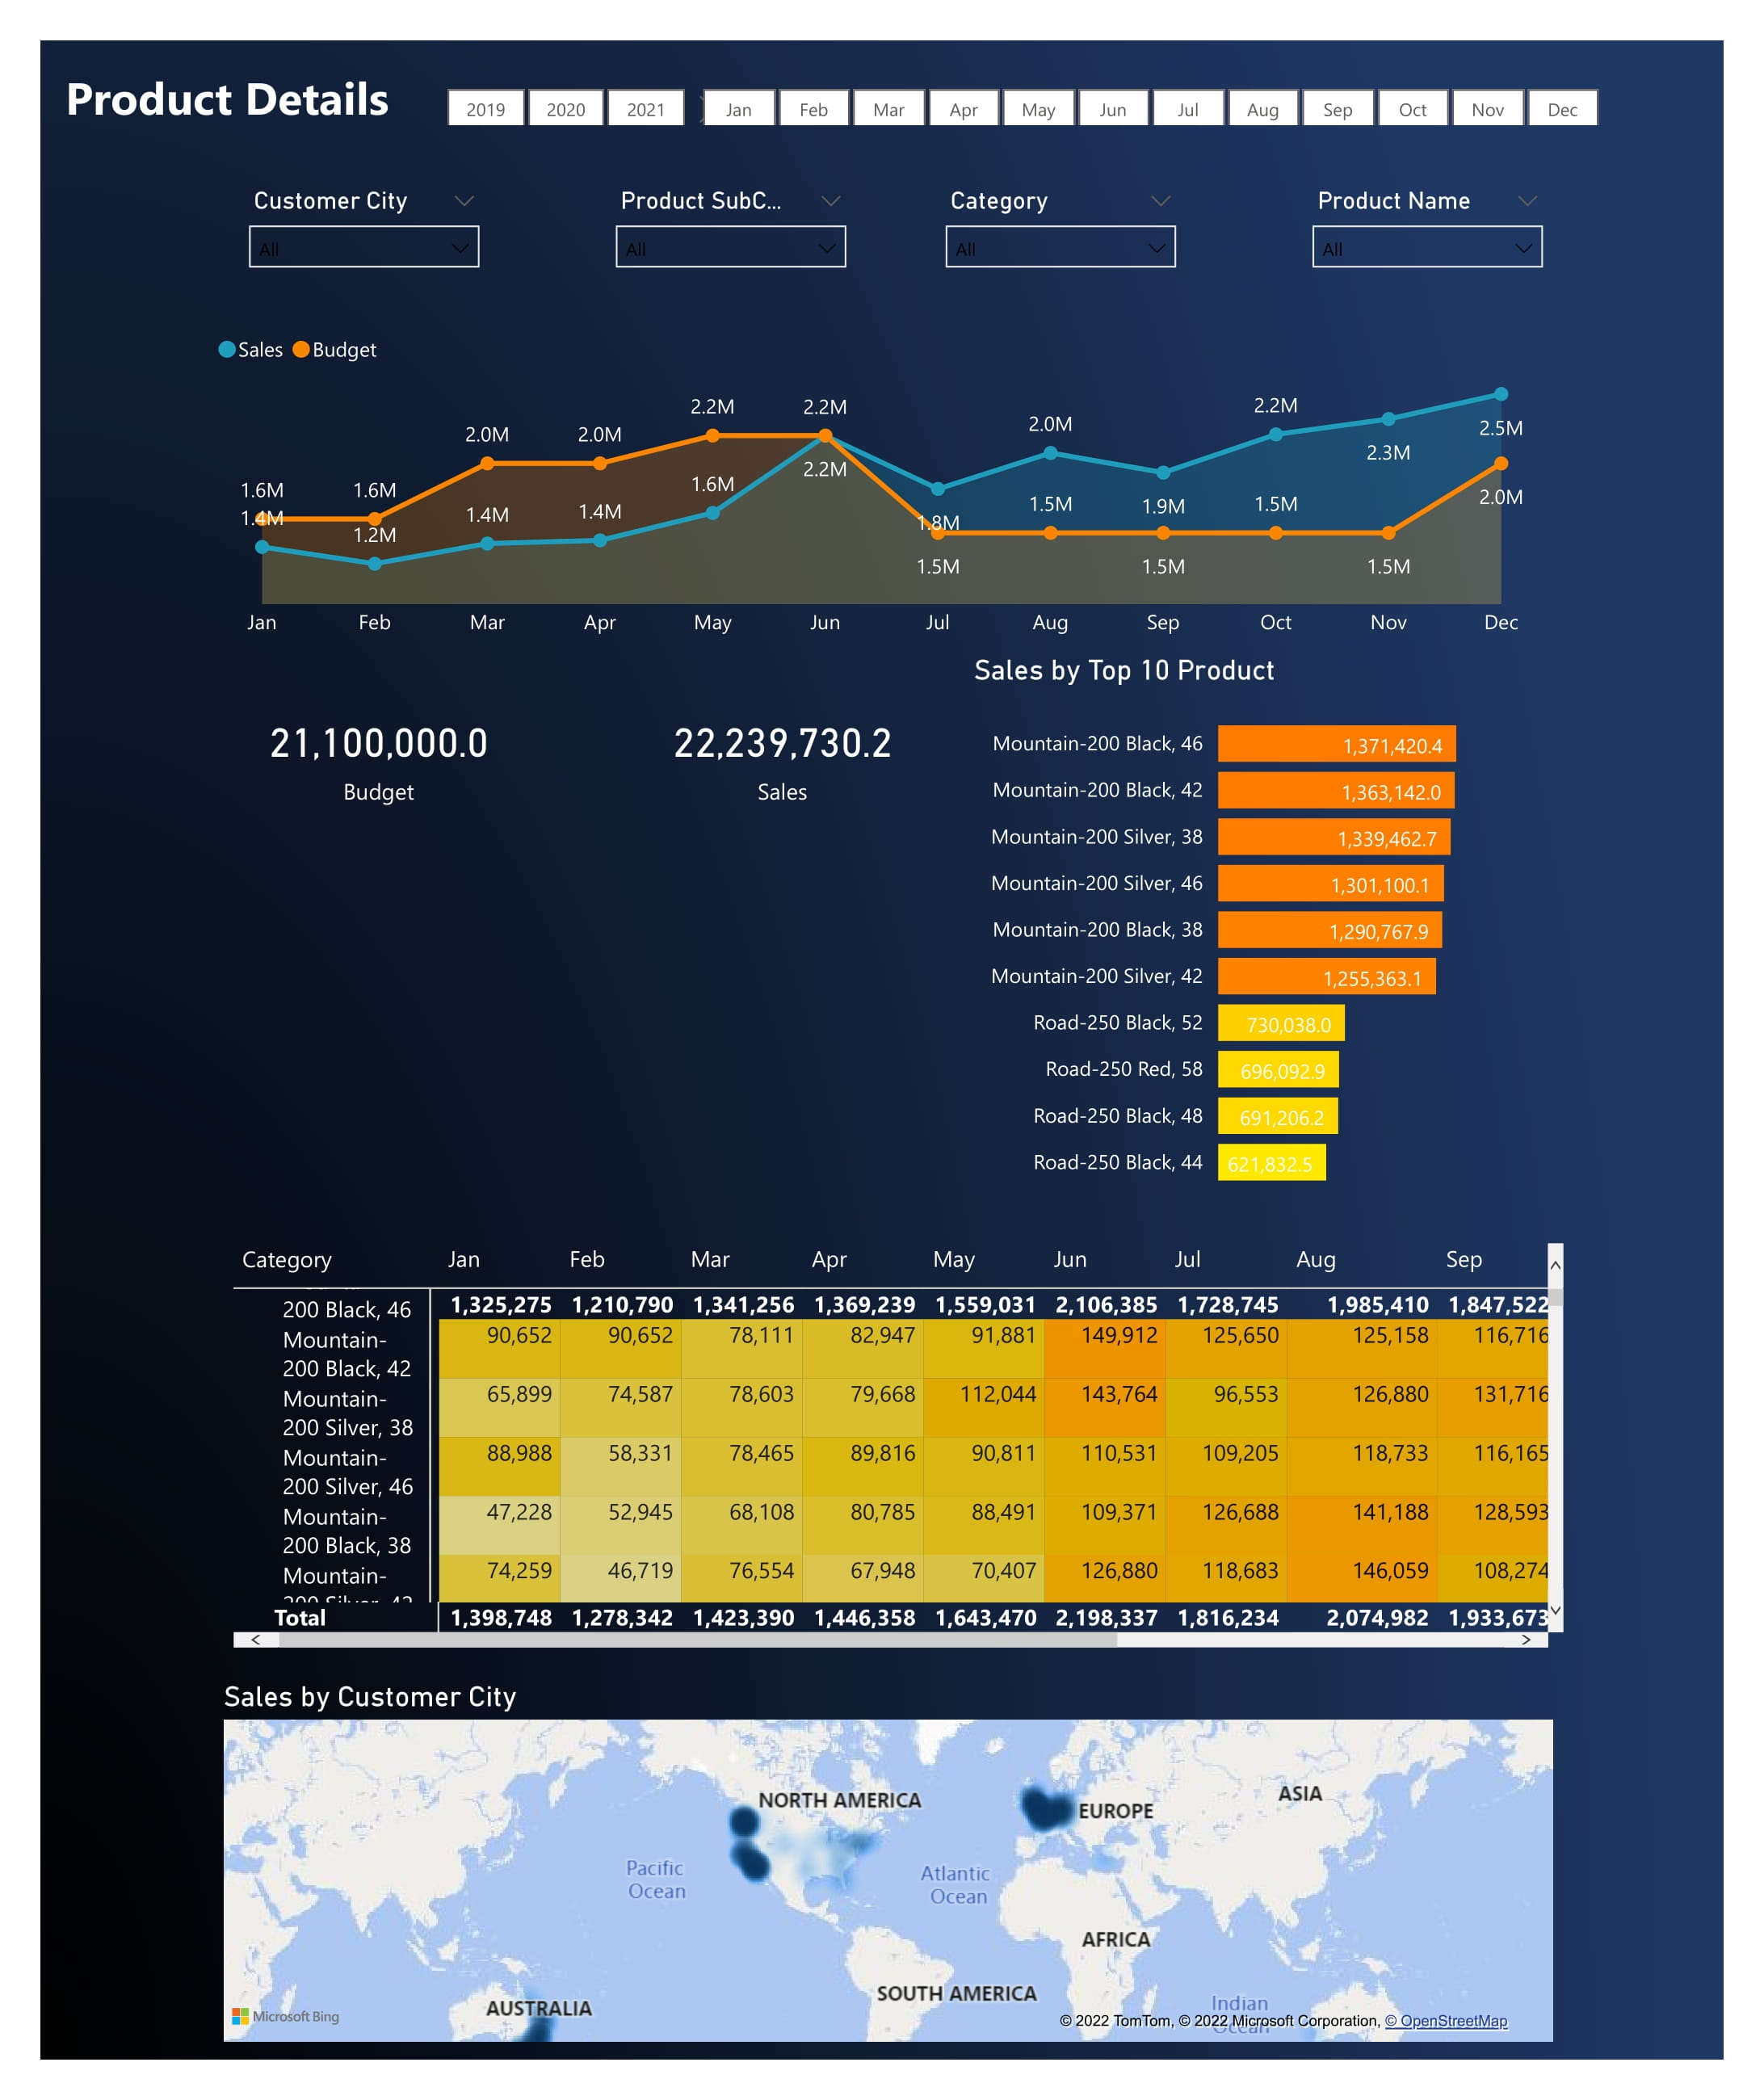

The page's visual inventory and layout, read from the dashboard file:
{"tool":"powerbi","page":{"name":"Product Details","canvas":[1000,1200],"ordinal":2},"visuals":[{"type":"textbox","box":[10,10,265,64],"z":0},{"type":"slicer","fields":{"Values":["DIM_Calendar.Year"]},"box":[216,21,191,28],"z":1000},{"type":"slicer","fields":{"Values":["DIM_Calendar.MonthShort"]},"box":[367,21,582,28],"z":2000},{"type":"slicer","fields":{"Values":["DIM_Customers.Customer City"]},"box":[114,81,157,63],"z":3000},{"type":"slicer","fields":{"Values":["DIM_Products.Product Category"]},"box":[528,81,157,63],"z":4000},{"type":"slicer","fields":{"Values":["DIM_Products.Product Name"]},"box":[745,81,157,63],"z":5000},{"type":"slicer","fields":{"Values":["DIM_Products.Product SubCategory"]},"box":[331,81,157,63],"z":6000},{"type":"areaChart","fields":{"Category":["DIM_Calendar.MonthShort"],"Y":["Analysis Metrics.Sales","Analysis Metrics.Budget"]},"box":[100,164,800,200],"z":7000},{"type":"card","fields":{"Values":["Analysis Metrics.Sales"]},"box":[354,390,174.3,70],"z":8000},{"type":"map","fields":{"Category":["DIM_Customers.Customer City"],"Size":["Analysis Metrics.Sales"]},"box":[103,973,800,220],"z":9000},{"type":"card","fields":{"Values":["Analysis Metrics.Budget"]},"box":[114,390,174.3,70],"z":10000},{"type":"pivotTable","fields":{"Rows":["DIM_Products.Product Category","DIM_Products.Product Name"],"Columns":["DIM_Calendar.MonthShort"],"Values":["Analysis Metrics.Sales"]},"box":[109,709,800,250],"z":11000},{"type":"clusteredBarChart","title":"Sales by Top 10 Product","fields":{"Category":["DIM_Products.Product Name"],"Y":["Analysis Metrics.Sales"]},"box":[550,364.3,350,330],"z":12000}]}

Visuals, with their boxes on the page's 1000x1200 design canvas (x1, y1, x2, y2). These are canvas units, not pixel positions in the 1764x2100 screenshot, which may show the page scaled, cropped or inside an application window:
textbox: select_region(10, 10, 275, 74)
slicer - DIM_Calendar.Year: select_region(216, 21, 407, 49)
slicer - DIM_Calendar.MonthShort: select_region(367, 21, 949, 49)
slicer - DIM_Customers.Customer City: select_region(114, 81, 271, 144)
slicer - DIM_Products.Product Category: select_region(528, 81, 685, 144)
slicer - DIM_Products.Product Name: select_region(745, 81, 902, 144)
slicer - DIM_Products.Product SubCategory: select_region(331, 81, 488, 144)
areaChart - DIM_Calendar.MonthShort x Analysis Metrics.Sales: select_region(100, 164, 900, 364)
card - Analysis Metrics.Sales: select_region(354, 390, 528, 460)
map - DIM_Customers.Customer City x Analysis Metrics.Sales: select_region(103, 973, 903, 1193)
card - Analysis Metrics.Budget: select_region(114, 390, 288, 460)
pivotTable - DIM_Products.Product Category x DIM_Products.Product Name: select_region(109, 709, 909, 959)
"Sales by Top 10 Product" clusteredBarChart: select_region(550, 364, 900, 694)
